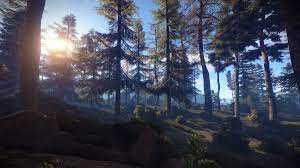tree: (10, 1, 57, 117), (250, 1, 278, 124), (192, 1, 216, 119), (157, 1, 180, 115), (106, 1, 128, 119), (279, 1, 299, 122), (75, 36, 105, 114), (231, 1, 243, 121)
